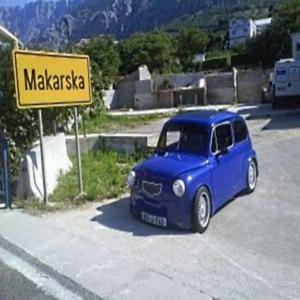Vehicle-registration-plate: (141, 213, 167, 226)
